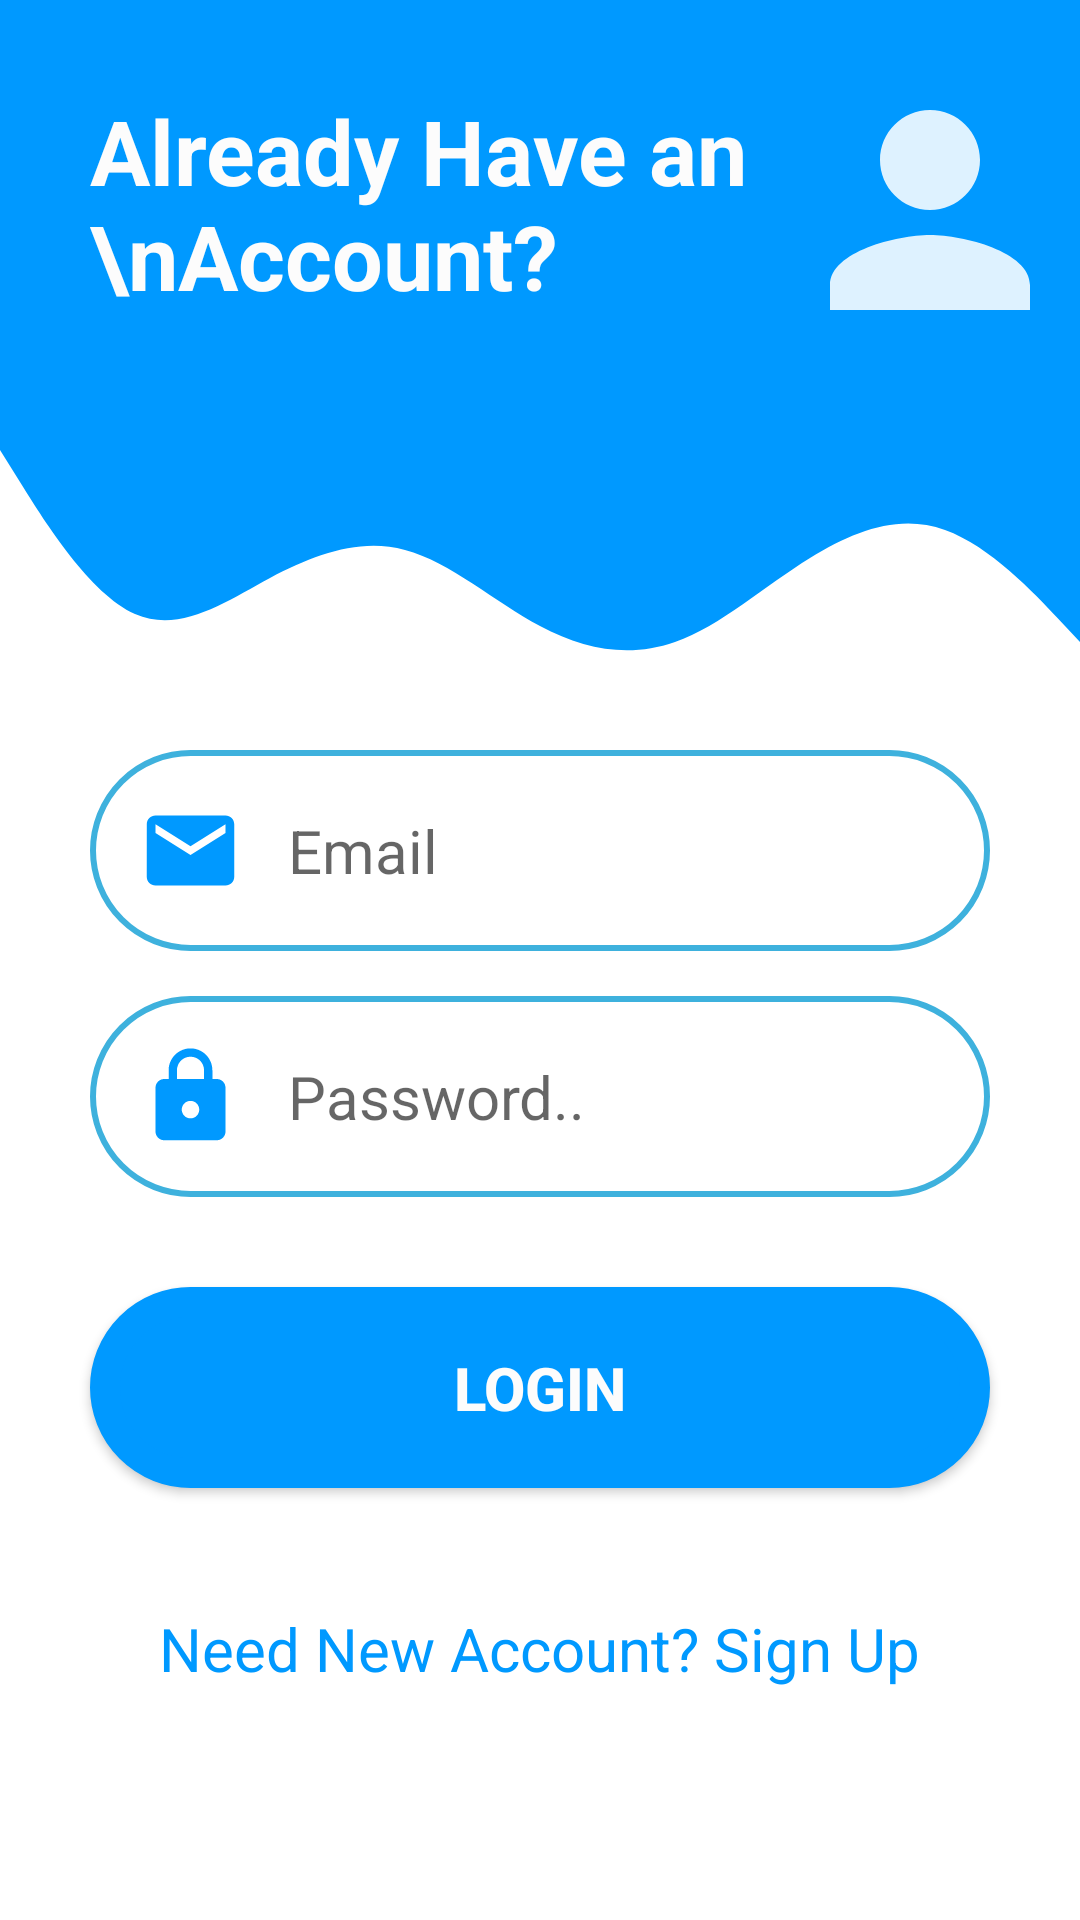

Where icons sit on this 1080×1920 app screen, as (x1, y1, x2, y2):
persion: (830, 110, 1030, 310)
